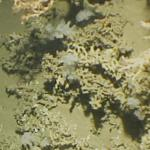alive: (6, 3, 145, 146)
